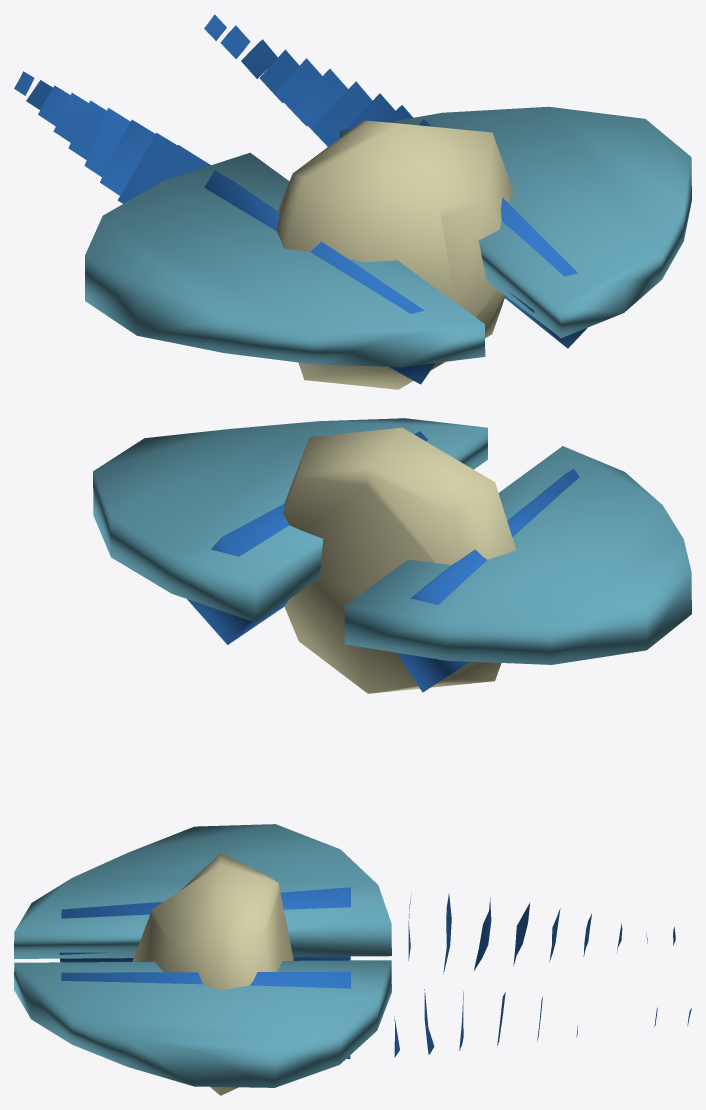
File: ship_3.gltf
The picture shows the model from 3 angles, top to bottom: view 1: azimuth 30°, elevation 25°; view 2: azimuth 150°, elevation 25°; view 3: azimuth 270°, elevation 25°; orthographic projection. The views are drawn at different scales.
Visible parts, largest first — view 1: gtlf; view 2: gtlf; view 3: gtlf.
Boxes of the visible parts, x1,y1,x2,y2 form: gtlf: [14, 14, 691, 389]; gtlf: [93, 418, 691, 693]; gtlf: [14, 824, 691, 1095].
Bounding box in the file's own units: 1.78 × 0.807 × 2.25.
